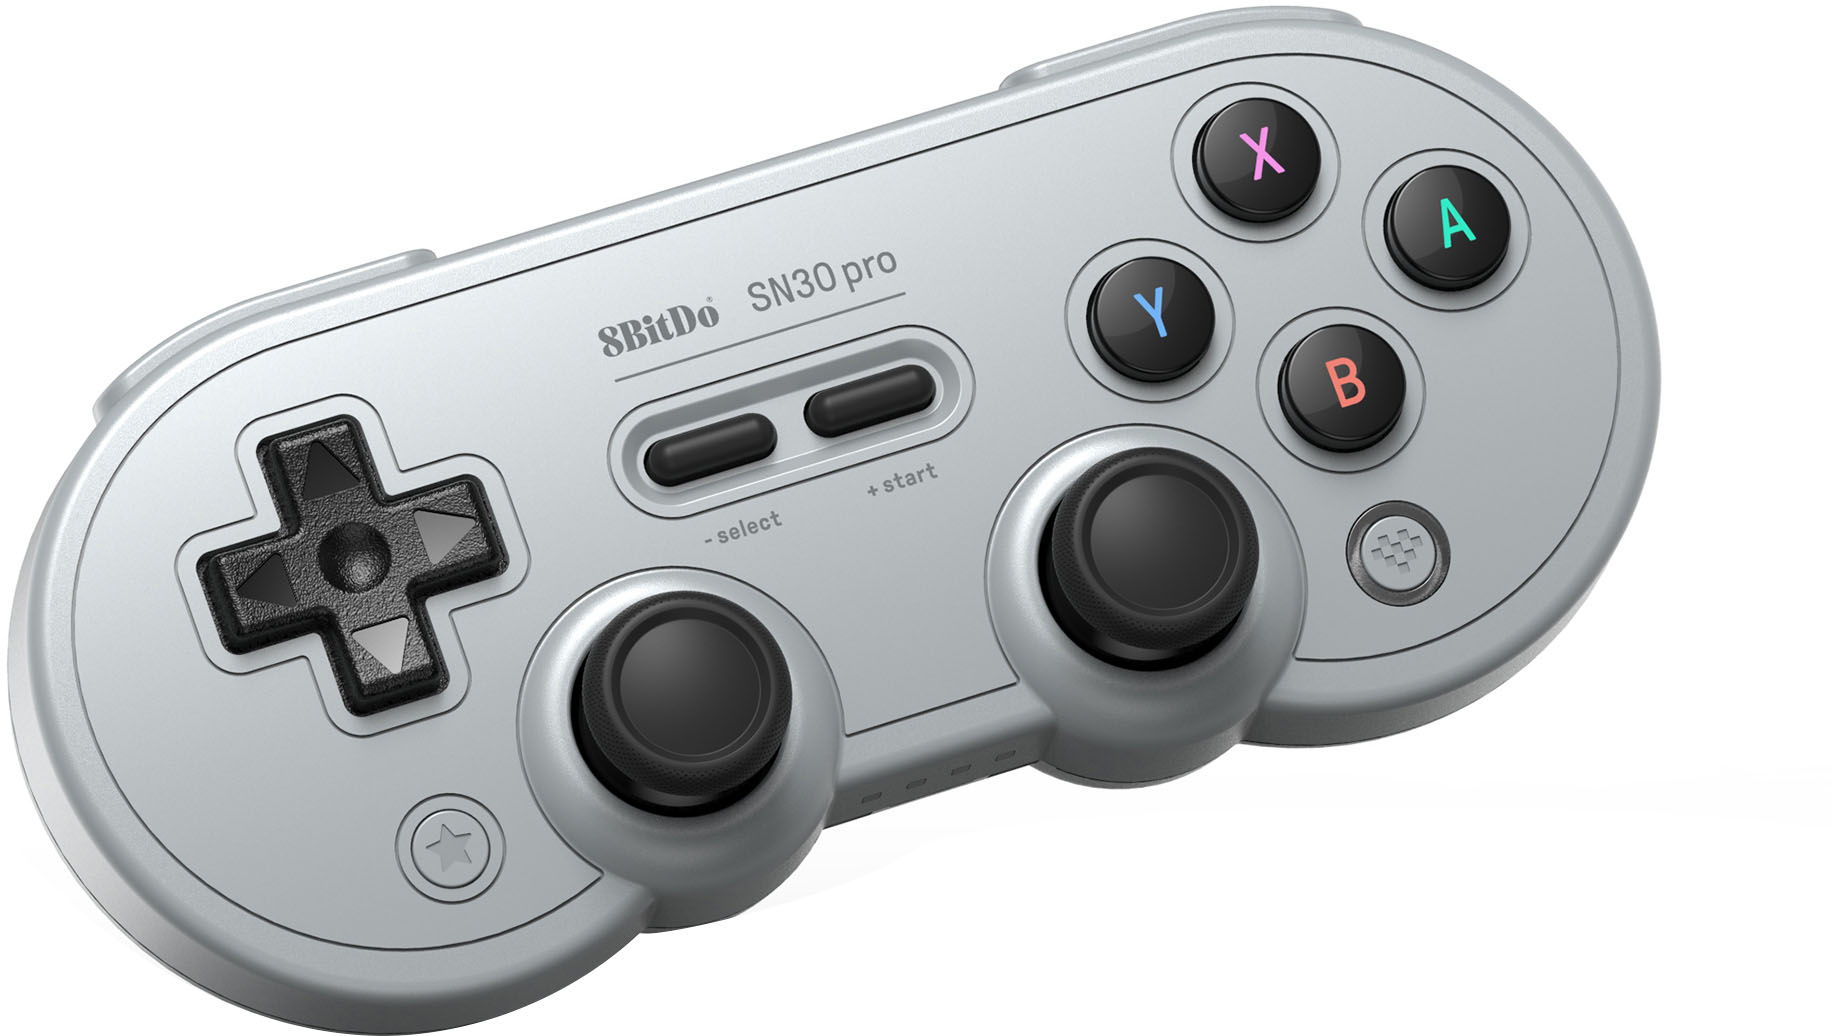controller: (5, 4, 1663, 1036)
